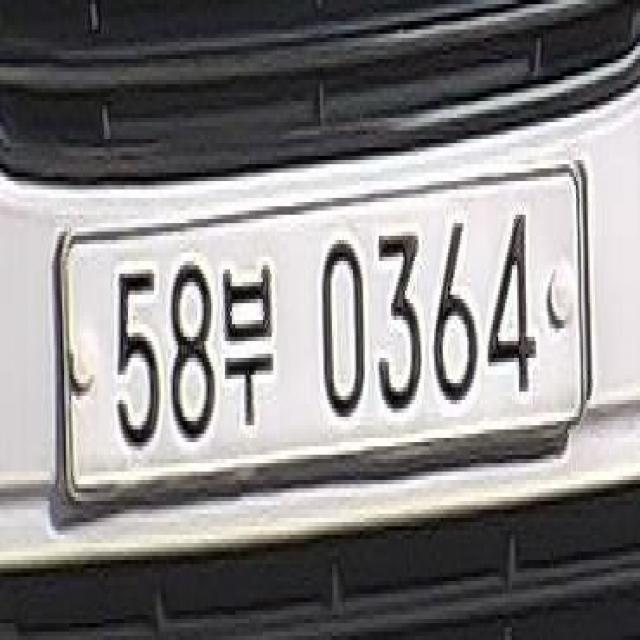0: (317, 231, 369, 422)
3: (376, 215, 424, 418)
4: (484, 198, 540, 398)
5: (110, 256, 162, 451)
6: (430, 208, 480, 408)
8: (166, 252, 219, 446)
bu: (221, 252, 279, 439)
license_plate: (46, 152, 602, 537)
